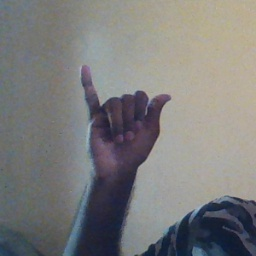J: (78, 64, 175, 165)
